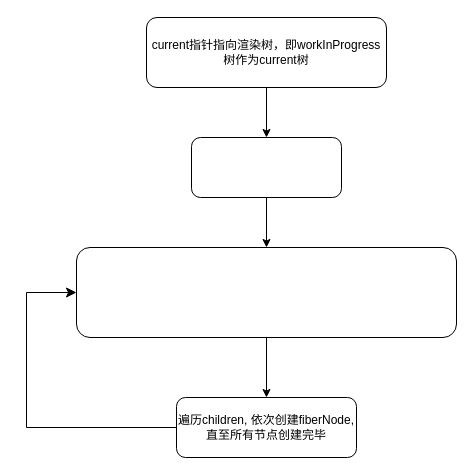
Some shapes in this 474 by 475 pixel diagram are drawn without their labels. The centre of each missing label's shape, as x and y in pixels:
从RootFiber开始构建新的workInProgress树: the point at 266,167
复用current树的对应节点的状态创建fiberNode, workInProgress树和current树对应的节点用alternate指针进行关联: the point at 266,292
